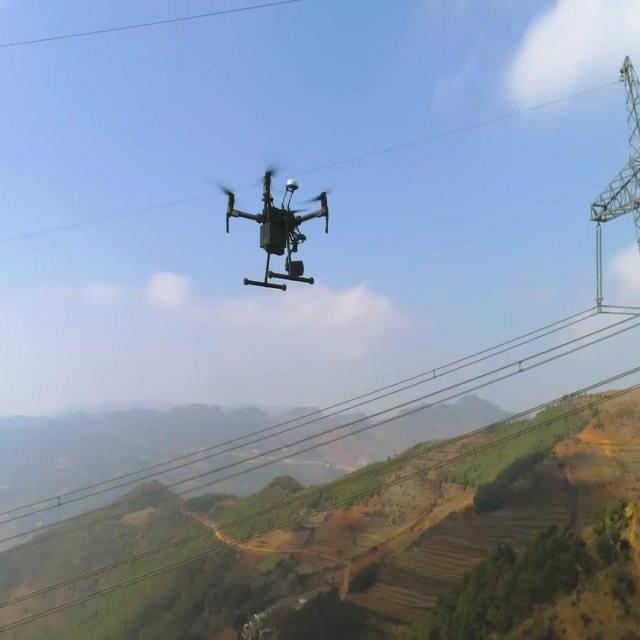UAV: (218, 166, 331, 291)
